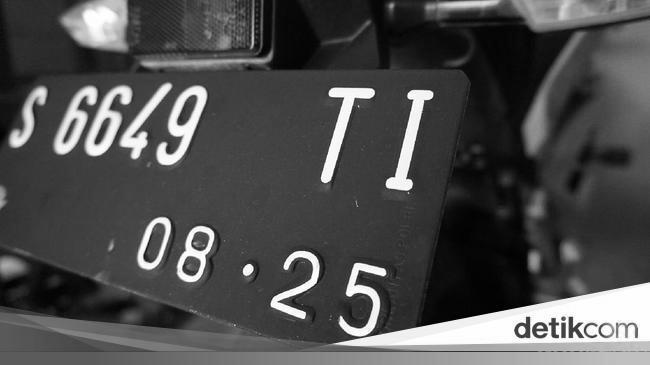4: (105, 76, 180, 169)
6: (76, 81, 138, 166), (45, 82, 104, 162)
9: (151, 77, 223, 180)
I: (376, 79, 436, 201)
S: (2, 81, 56, 155)
T: (291, 74, 393, 195)
